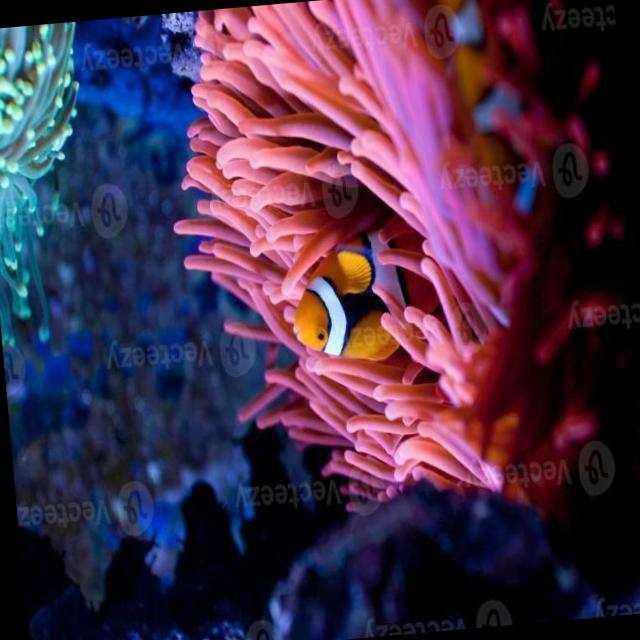ClownFish: (282, 212, 443, 366)
